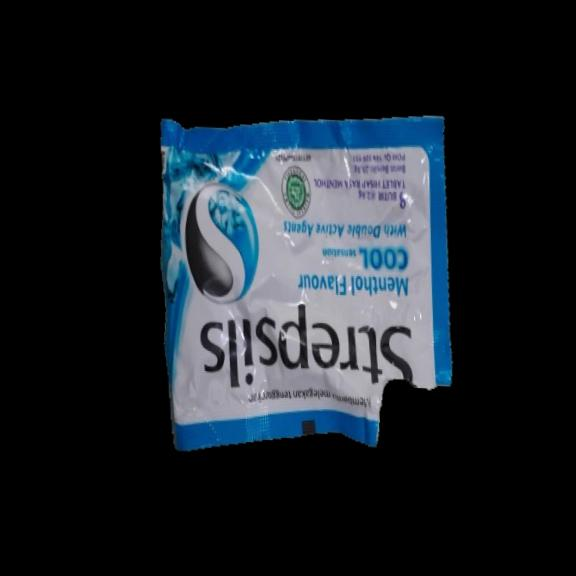Plastik: (148, 94, 463, 470)
